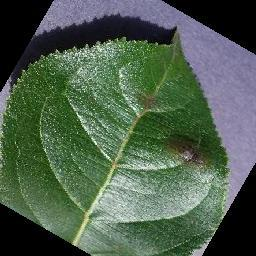apple healthy: (0, 25, 232, 255)
